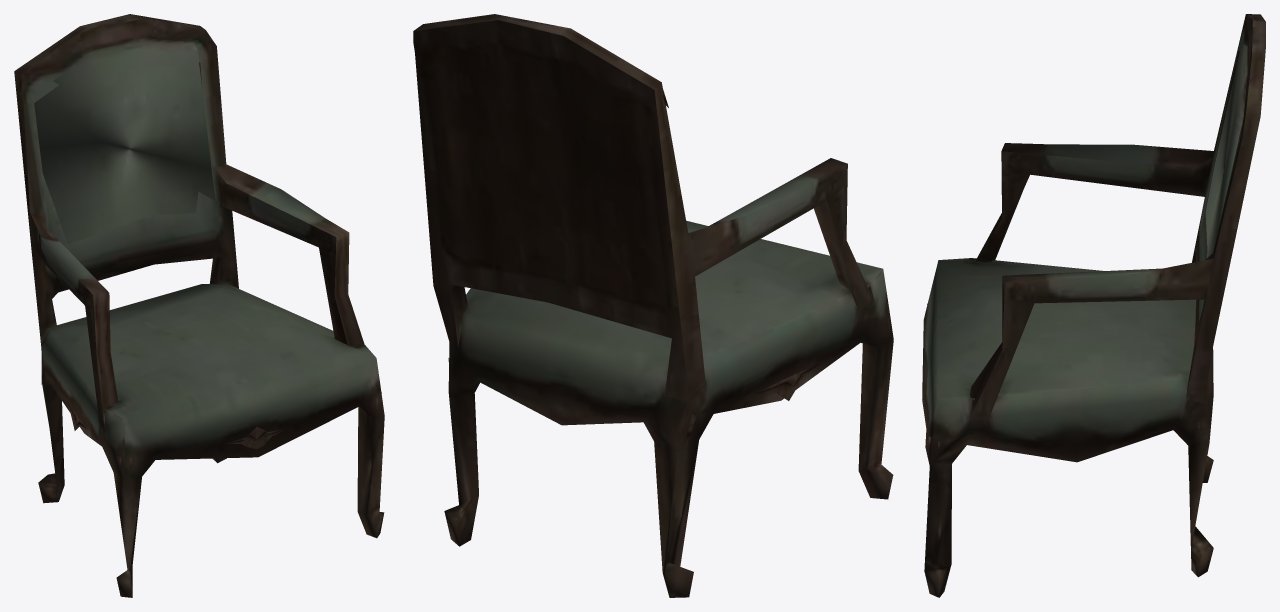
Rendered from GreenChair_01_lod1.glb.
The picture shows the model from 3 angles, left to right: view 1: azimuth 30°, elevation 25°; view 2: azimuth 150°, elevation 25°; view 3: azimuth 270°, elevation 25°; orthographic projection. The views are drawn at different scales.
Visible parts, largest first — view 1: GreenChair_01; view 2: GreenChair_01; view 3: GreenChair_01.
Part boxes in pixels (x1,y1,x2,y2): GreenChair_01: (14,14,384,597); GreenChair_01: (413,14,893,597); GreenChair_01: (922,14,1265,597).
Size of the model in its own units: 0.6644 by 1.04 by 0.658.
Materials: 1 (1 with a texture image).
